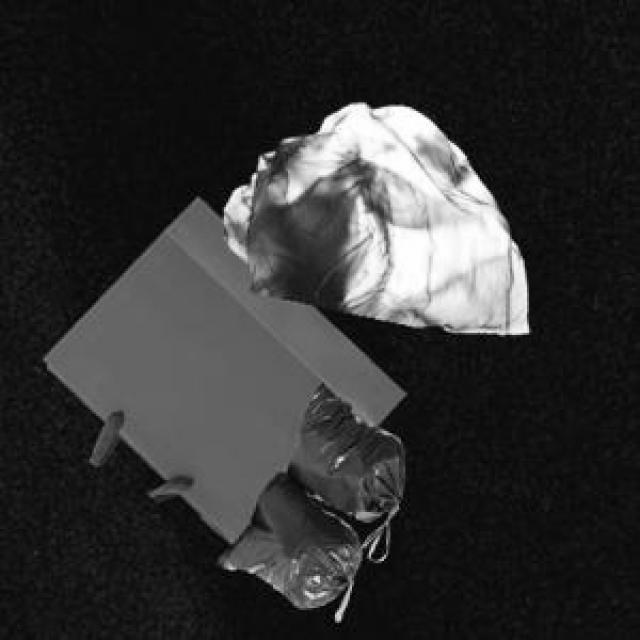miscellaneous trash: (213, 378, 401, 617)
paper: (41, 194, 401, 540)
